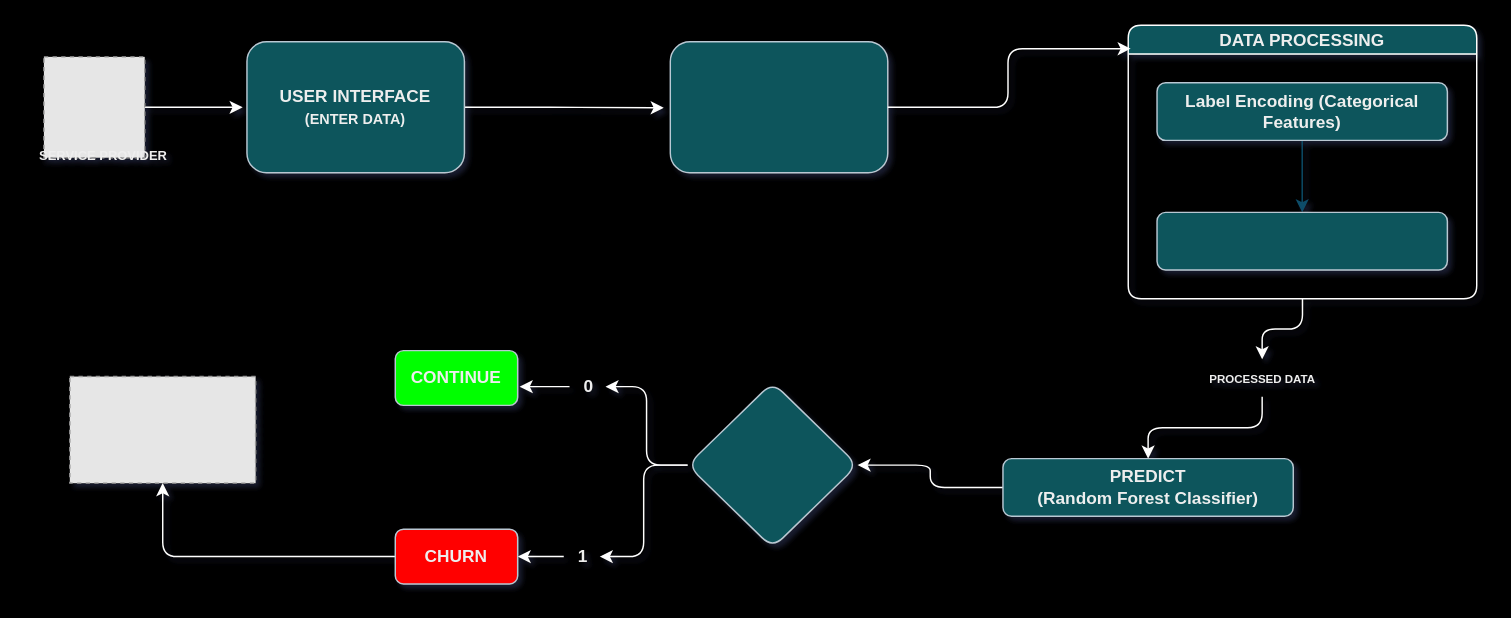
This 1511x618 diagram has some shape labels left out. Grey dashed boxes stand in for pictures. The shapes that lost their labels are listed below. From the top down, each one's centre as x and y in pixels, then its label:
the point at 778,106: RENDER DATA
the point at 1301,240: Standard Scaling
the point at 772,464: PREDICTION RESULTS ANALYSIS
